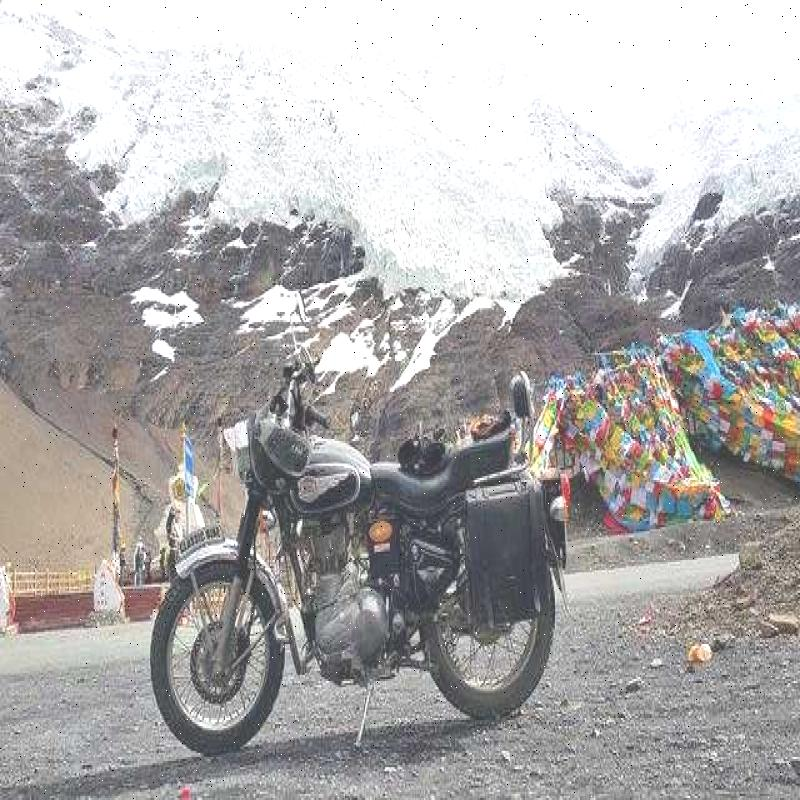bike: (145, 310, 572, 750)
